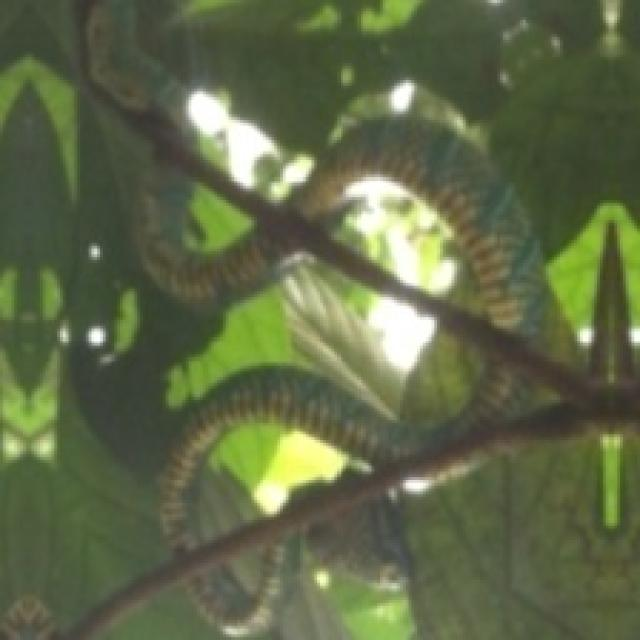north ph temple pitviper: (106, 120, 637, 637), (323, 171, 471, 297), (237, 426, 374, 520)
